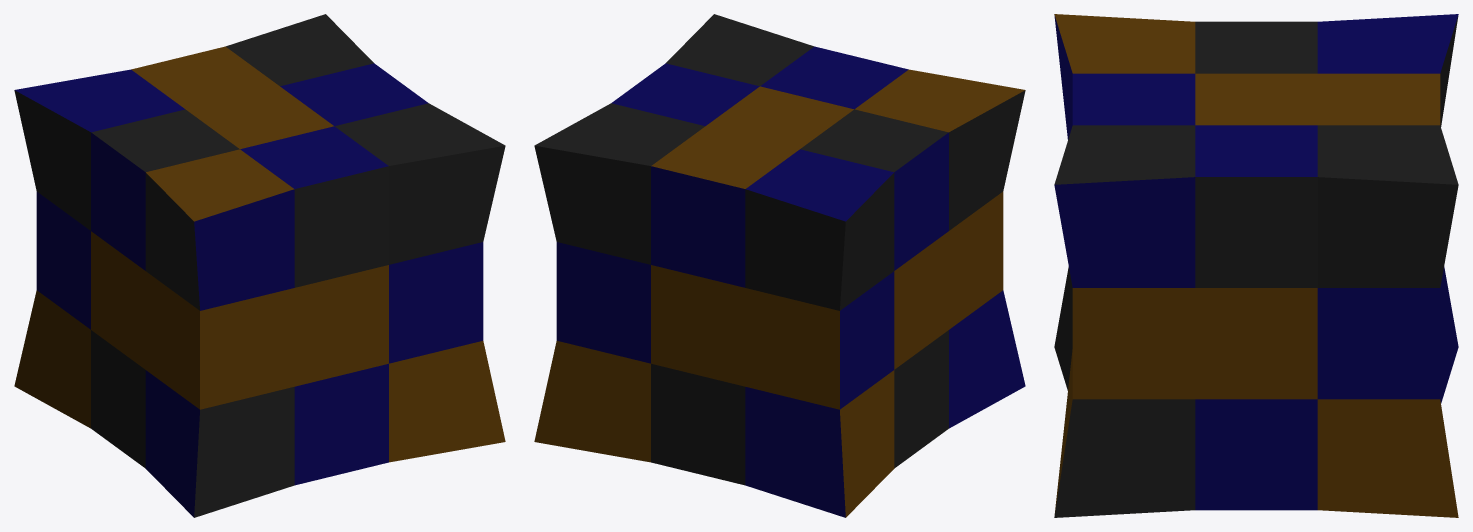
The model's file is skin_5_1_model.fbx.
3 views of the same model, side by side, from view 1: azimuth 30°, elevation 25°; view 2: azimuth 150°, elevation 25°; view 3: azimuth 270°, elevation 25° (orthographic). The views are drawn at different scales.
Visible parts, largest first — view 1: Cube; view 2: Cube; view 3: Cube.
Part boxes in pixels (<box>): Cube: <box>14,14,505,517</box>; Cube: <box>534,14,1025,517</box>; Cube: <box>1054,14,1458,517</box>.
Size of the model in its own units: 220 by 200 by 220.
